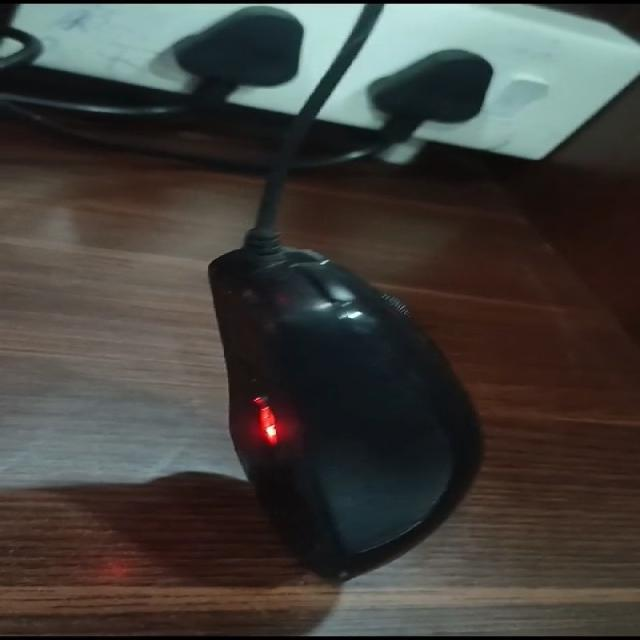mouse: (152, 181, 574, 600)
